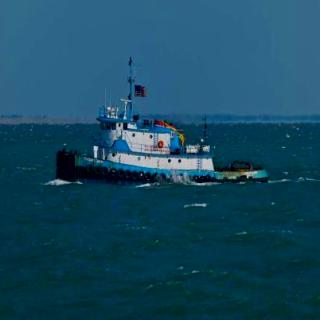Tug Boat: (53, 56, 246, 184)
